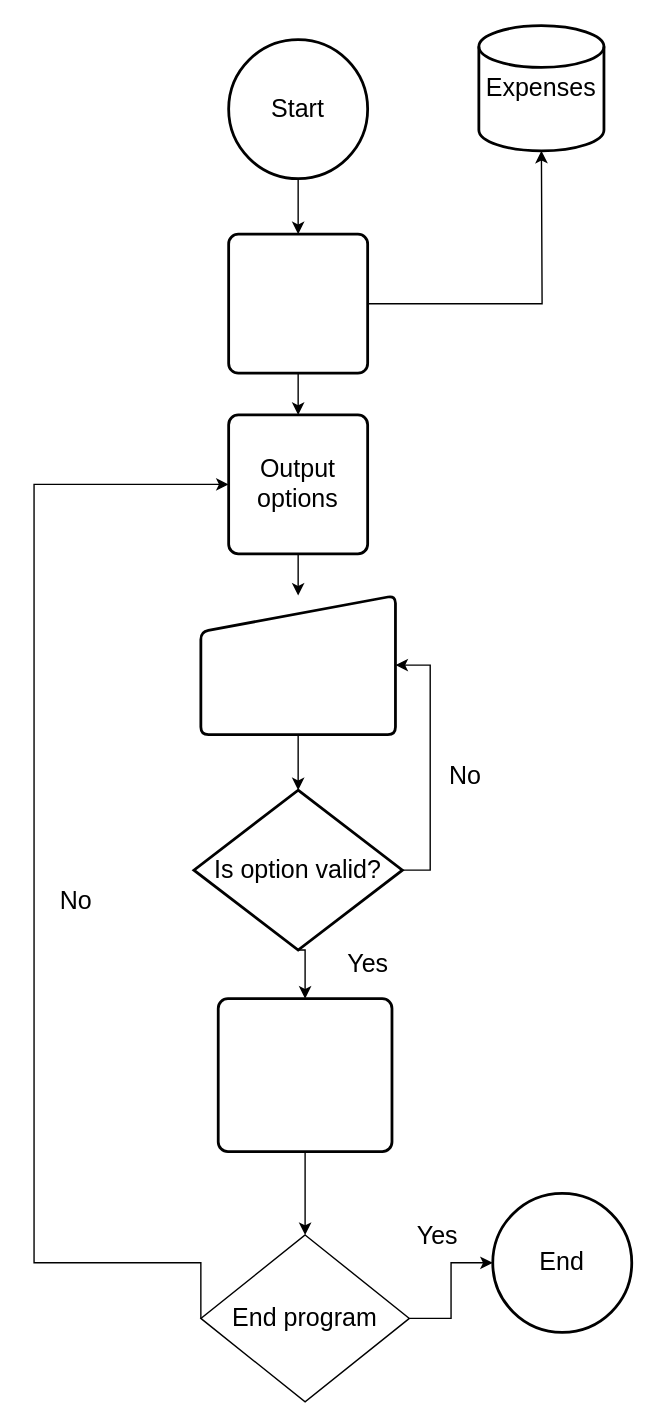
The diagram is 657 pixels wide and 1426 high, and some of its shapes have lost their labels. Each missing label, with the box of its shape:
Call corresponding functions: (216, 997, 393, 1152)
Initialise database: (227, 232, 368, 374)
Input option choice: (199, 594, 396, 735)
